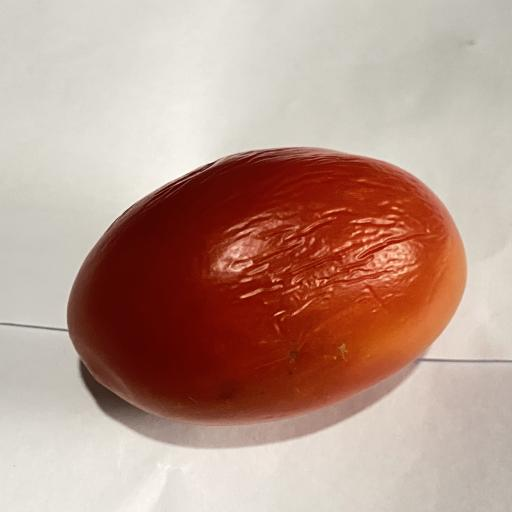spoiled: (68, 147, 465, 425)
